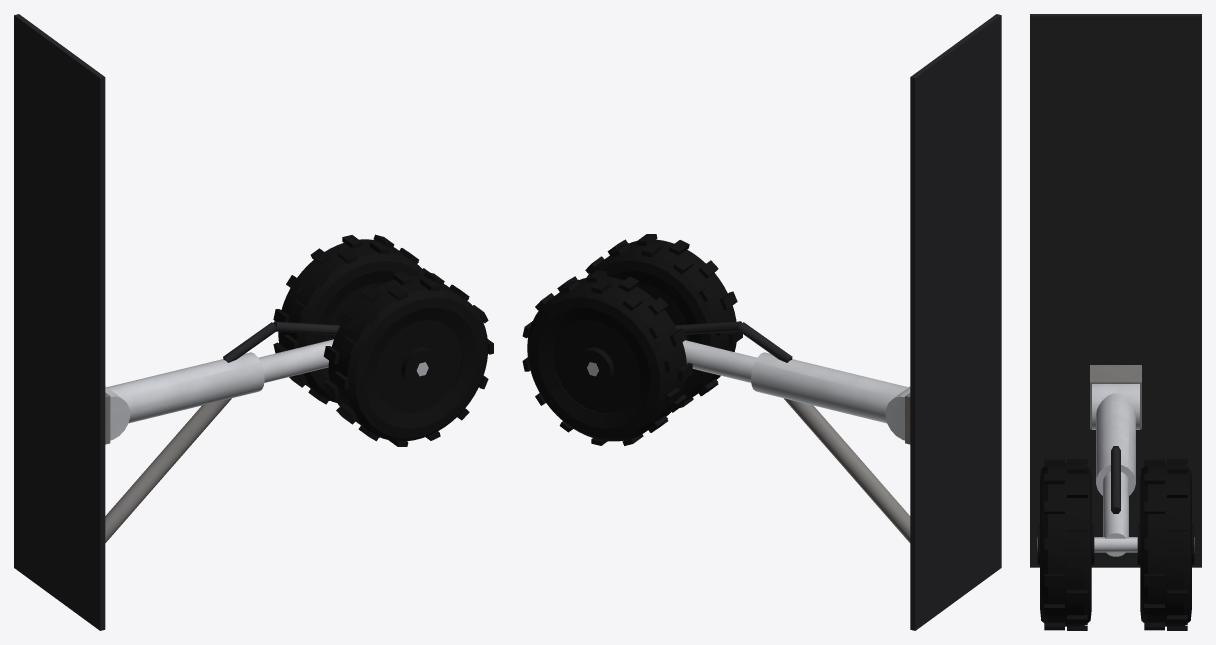
File: jet10_landing_gear_l_deployed.glb
3 views of the same model, side by side, from view 1: azimuth 30°, elevation 25°; view 2: azimuth 150°, elevation 25°; view 3: azimuth 270°, elevation 25° (orthographic).
Visible parts, largest first — view 1: mount_plate, wheel_1, wheel_2, oleo_strut, drag_brace, torque_links; view 2: mount_plate, wheel_2, wheel_1, oleo_strut, drag_brace, torque_links; view 3: mount_plate, wheel_1, wheel_2, oleo_strut, trunnion, axle, torque_links.
Boxes of the visible parts, <box> form: mount_plate: <box>14,14,105,630</box>; wheel_1: <box>323,271,493,446</box>; wheel_2: <box>273,234,429,404</box>; oleo_strut: <box>105,339,333,440</box>; drag_brace: <box>105,398,231,542</box>; torque_links: <box>223,321,340,362</box>; mount_plate: <box>910,14,1001,630</box>; wheel_2: <box>522,270,692,445</box>; wheel_1: <box>585,234,742,407</box>; oleo_strut: <box>682,340,910,440</box>; drag_brace: <box>784,398,910,542</box>; torque_links: <box>675,321,792,362</box>; mount_plate: <box>1030,14,1201,567</box>; wheel_1: <box>1037,459,1094,630</box>; wheel_2: <box>1137,459,1194,630</box>; oleo_strut: <box>1092,384,1139,556</box>; trunnion: <box>1090,365,1141,429</box>; axle: <box>1037,537,1194,552</box>; torque_links: <box>1111,446,1120,513</box>.
Bounding box in the file's own units: 3.22 × 4.25 × 1.2.
Materials: 4 (2 with a texture image).
